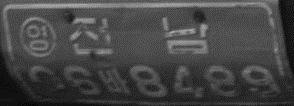0: (29, 64, 62, 96)
4: (172, 64, 203, 98)
6: (64, 65, 100, 97)
8: (130, 64, 169, 98), (203, 65, 240, 99)
9: (240, 63, 281, 99)
바: (101, 68, 129, 95)
영: (17, 15, 57, 58)
전남_D: (67, 15, 209, 57)
